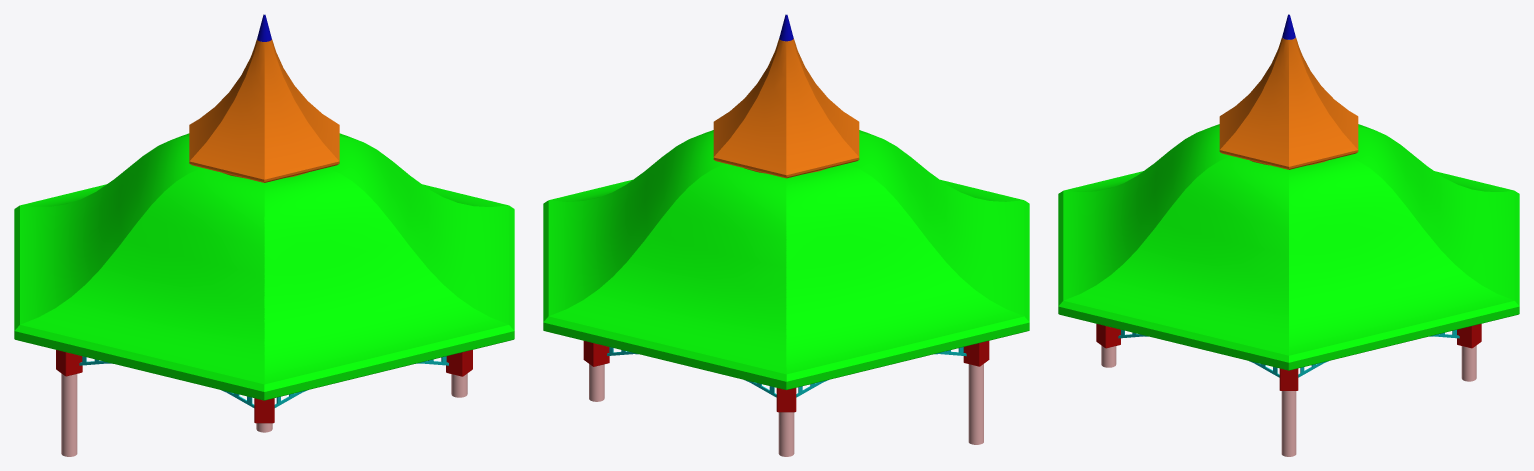
File: kiosquefinal.fbx
3 views of the same model, side by side, from view 1: azimuth 30°, elevation 25°; view 2: azimuth 150°, elevation 25°; view 3: azimuth 270°, elevation 25° (orthographic). The views are drawn at different scales.
Parts seen in each view (by area): view 1: 3DGeom~475, 3DGeom~476, 3DGeom~477, 3DGeom~480, 3DGeom~479; view 2: 3DGeom~475, 3DGeom~476, 3DGeom~477, 3DGeom~480, 3DGeom~479; view 3: 3DGeom~475, 3DGeom~476, 3DGeom~477, 3DGeom~480, 3DGeom~479.
Boxes of the visible parts, x1,y1,x2,y2 form: 3DGeom~475: [14, 133, 514, 400]; 3DGeom~476: [189, 39, 339, 182]; 3DGeom~477: [61, 373, 467, 456]; 3DGeom~480: [56, 350, 472, 423]; 3DGeom~479: [79, 356, 448, 407]; 3DGeom~475: [543, 130, 1029, 389]; 3DGeom~476: [713, 38, 859, 178]; 3DGeom~477: [589, 364, 983, 456]; 3DGeom~480: [583, 341, 989, 412]; 3DGeom~479: [607, 347, 966, 397]; 3DGeom~475: [1058, 124, 1519, 370]; 3DGeom~476: [1219, 37, 1358, 169]; 3DGeom~477: [1101, 345, 1476, 456]; 3DGeom~480: [1096, 324, 1481, 390]; 3DGeom~479: [1118, 330, 1459, 377].
Bounding box in the file's own units: 0.1154 × 0.1 × 0.0864.
